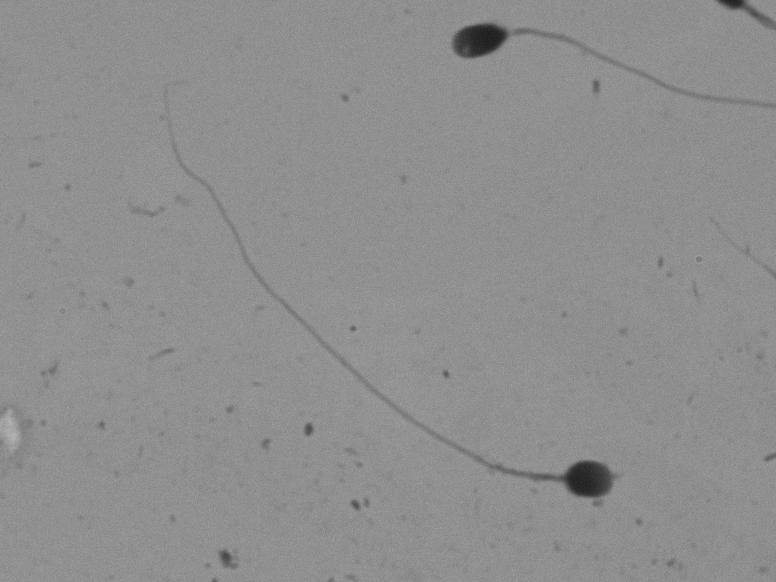Normal: (73, 101, 640, 525), (401, 12, 765, 117)
